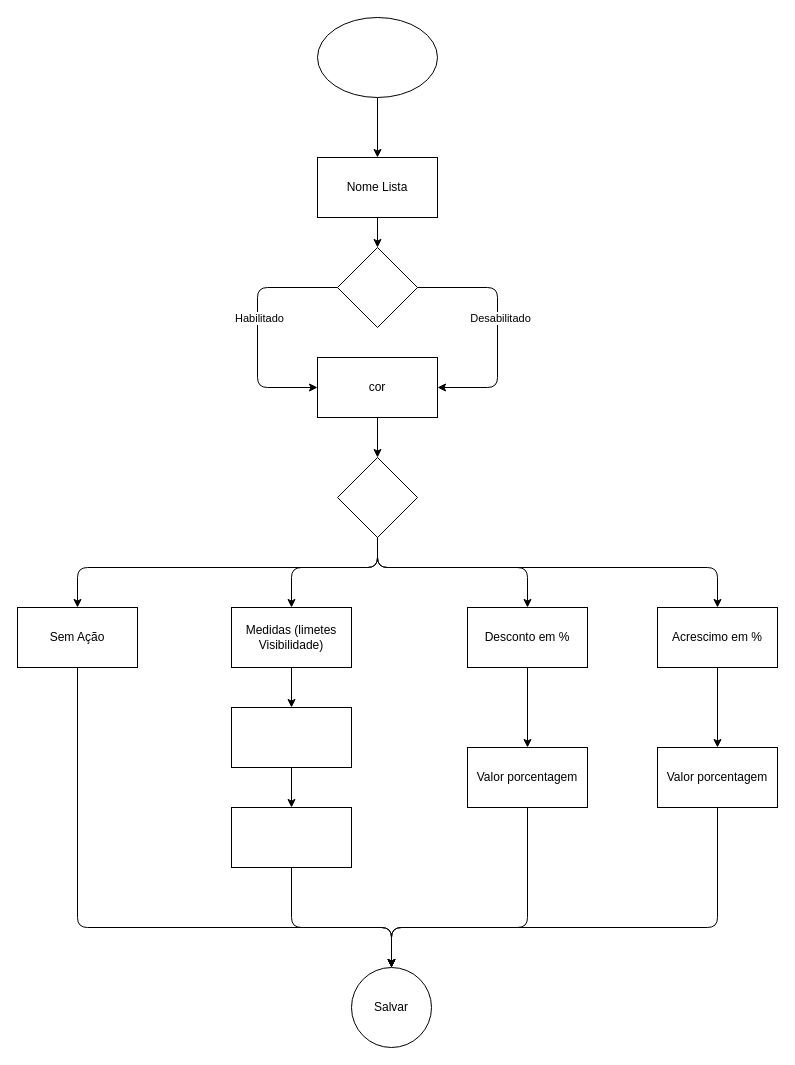
The diagram is 795 pixels wide and 1065 high, and some of its shapes have lost their labels. Each missing label, with the box of its shape:
Ação: (336, 456, 418, 538)
Editar Sub-Item: (316, 16, 438, 98)
Estado: (336, 246, 418, 328)
Limite (Máximo): (230, 806, 352, 868)
Limite (Mínimo): (230, 706, 352, 768)
